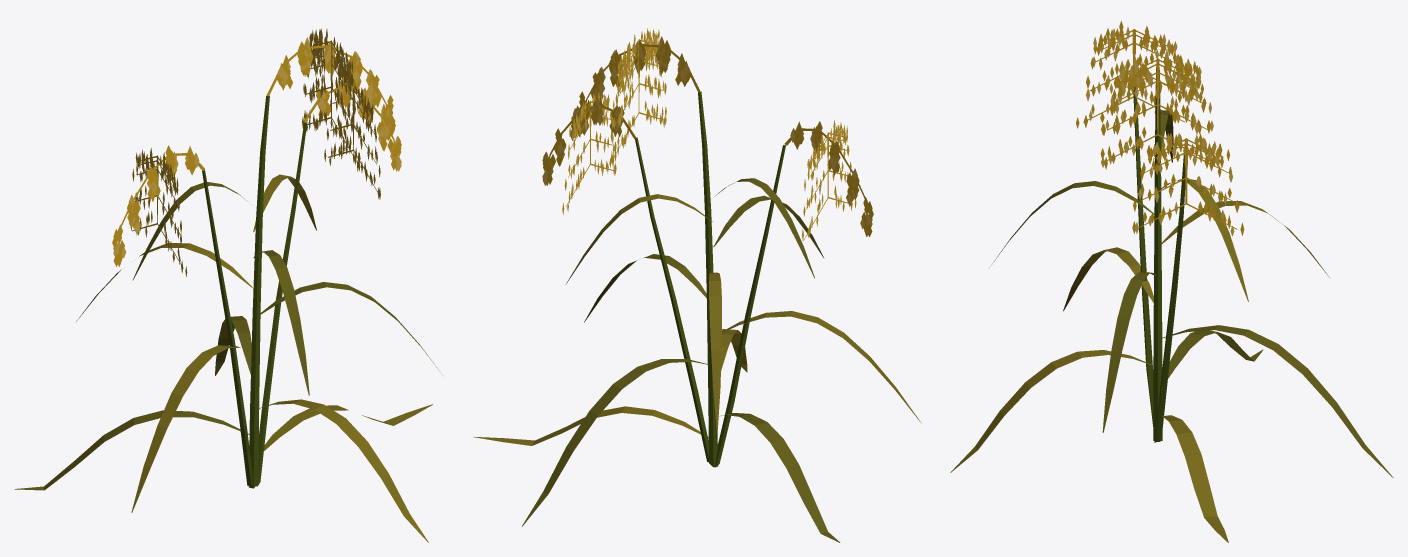
File: CayLua_LOD1.fbx
The picture shows the model from 3 angles, left to right: view 1: azimuth 30°, elevation 25°; view 2: azimuth 150°, elevation 25°; view 3: azimuth 270°, elevation 25°; orthographic projection. The views are drawn at different scales.
Parts seen in each view (by area): view 1: CayLua_LOD1; view 2: CayLua_LOD1; view 3: CayLua_LOD1.
Boxes of the visible parts, <box> form: CayLua_LOD1: <box>14,28,438,542</box>; CayLua_LOD1: <box>473,28,921,542</box>; CayLua_LOD1: <box>950,21,1393,542</box>.
Bounding box in the file's own units: 1.93 × 2.01 × 1.87.
1 material, 1 textured.
